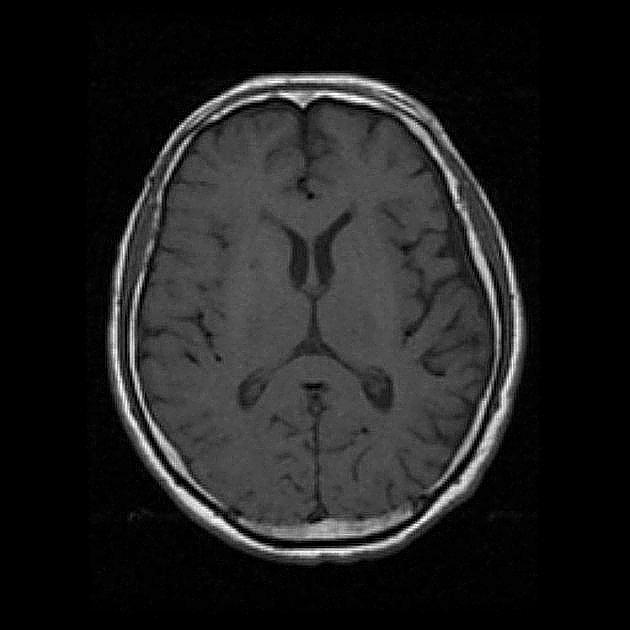Normal_Brain: (44, 40, 582, 586)
